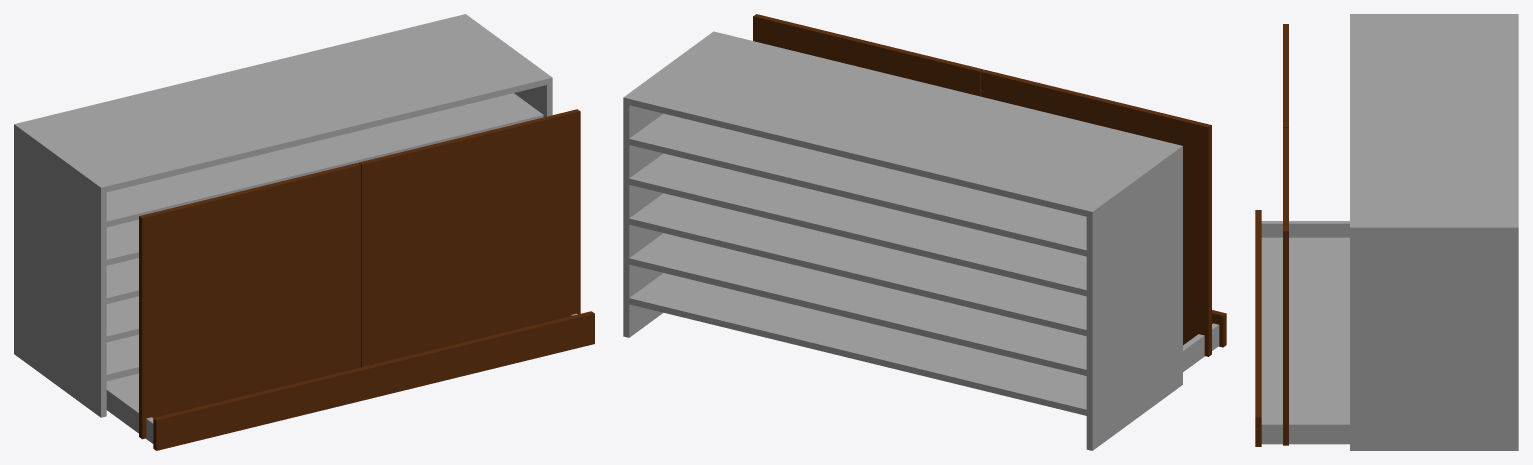
The model's file is meuble_69020ff010ec9.glb.
3 views of the same model, side by side, from view 1: azimuth 30°, elevation 25°; view 2: azimuth 150°, elevation 25°; view 3: azimuth 270°, elevation 25° (orthographic). The views are drawn at different scales.
Visible parts, largest first — view 1: world; view 2: world; view 3: world.
Part boxes in pixels (x1,y1,x2,y2): world: [14, 14, 594, 450]; world: [623, 14, 1226, 450]; world: [1255, 14, 1518, 450].
Bounding box in the file's own units: 1.5 × 0.73 × 0.7809.
Materials: 1 (1 with a texture image).
